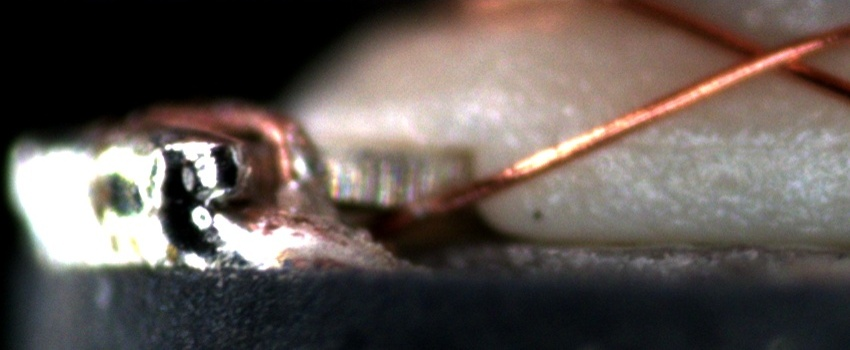CL: (721, 29, 822, 83)
DL: (610, 112, 850, 176)
TE: (157, 94, 320, 186)
